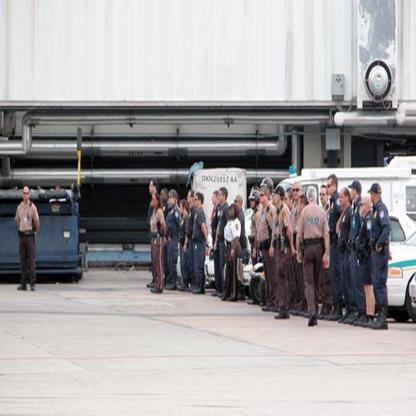face: (293, 184, 301, 203), (360, 199, 368, 218), (320, 188, 328, 204), (327, 179, 334, 196), (285, 194, 292, 210), (341, 191, 347, 208), (274, 192, 281, 206), (350, 186, 357, 200), (259, 192, 267, 204), (234, 198, 241, 211), (299, 200, 305, 214), (194, 196, 200, 209), (251, 196, 257, 209), (371, 189, 376, 204), (169, 195, 175, 206), (219, 192, 225, 203), (24, 188, 29, 201), (150, 182, 155, 194), (153, 196, 158, 208), (161, 191, 166, 202), (187, 192, 192, 203), (230, 208, 235, 218), (180, 203, 184, 214), (213, 195, 217, 204)
